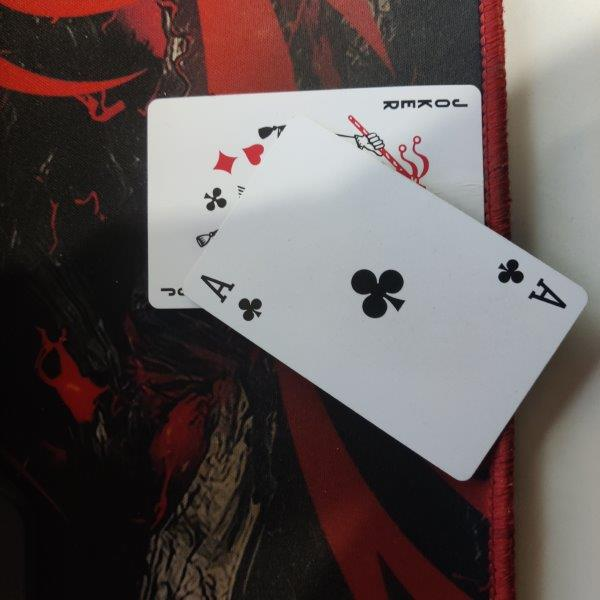Ace of Clubs: (182, 113, 588, 482)
Joker: (145, 83, 485, 309)
